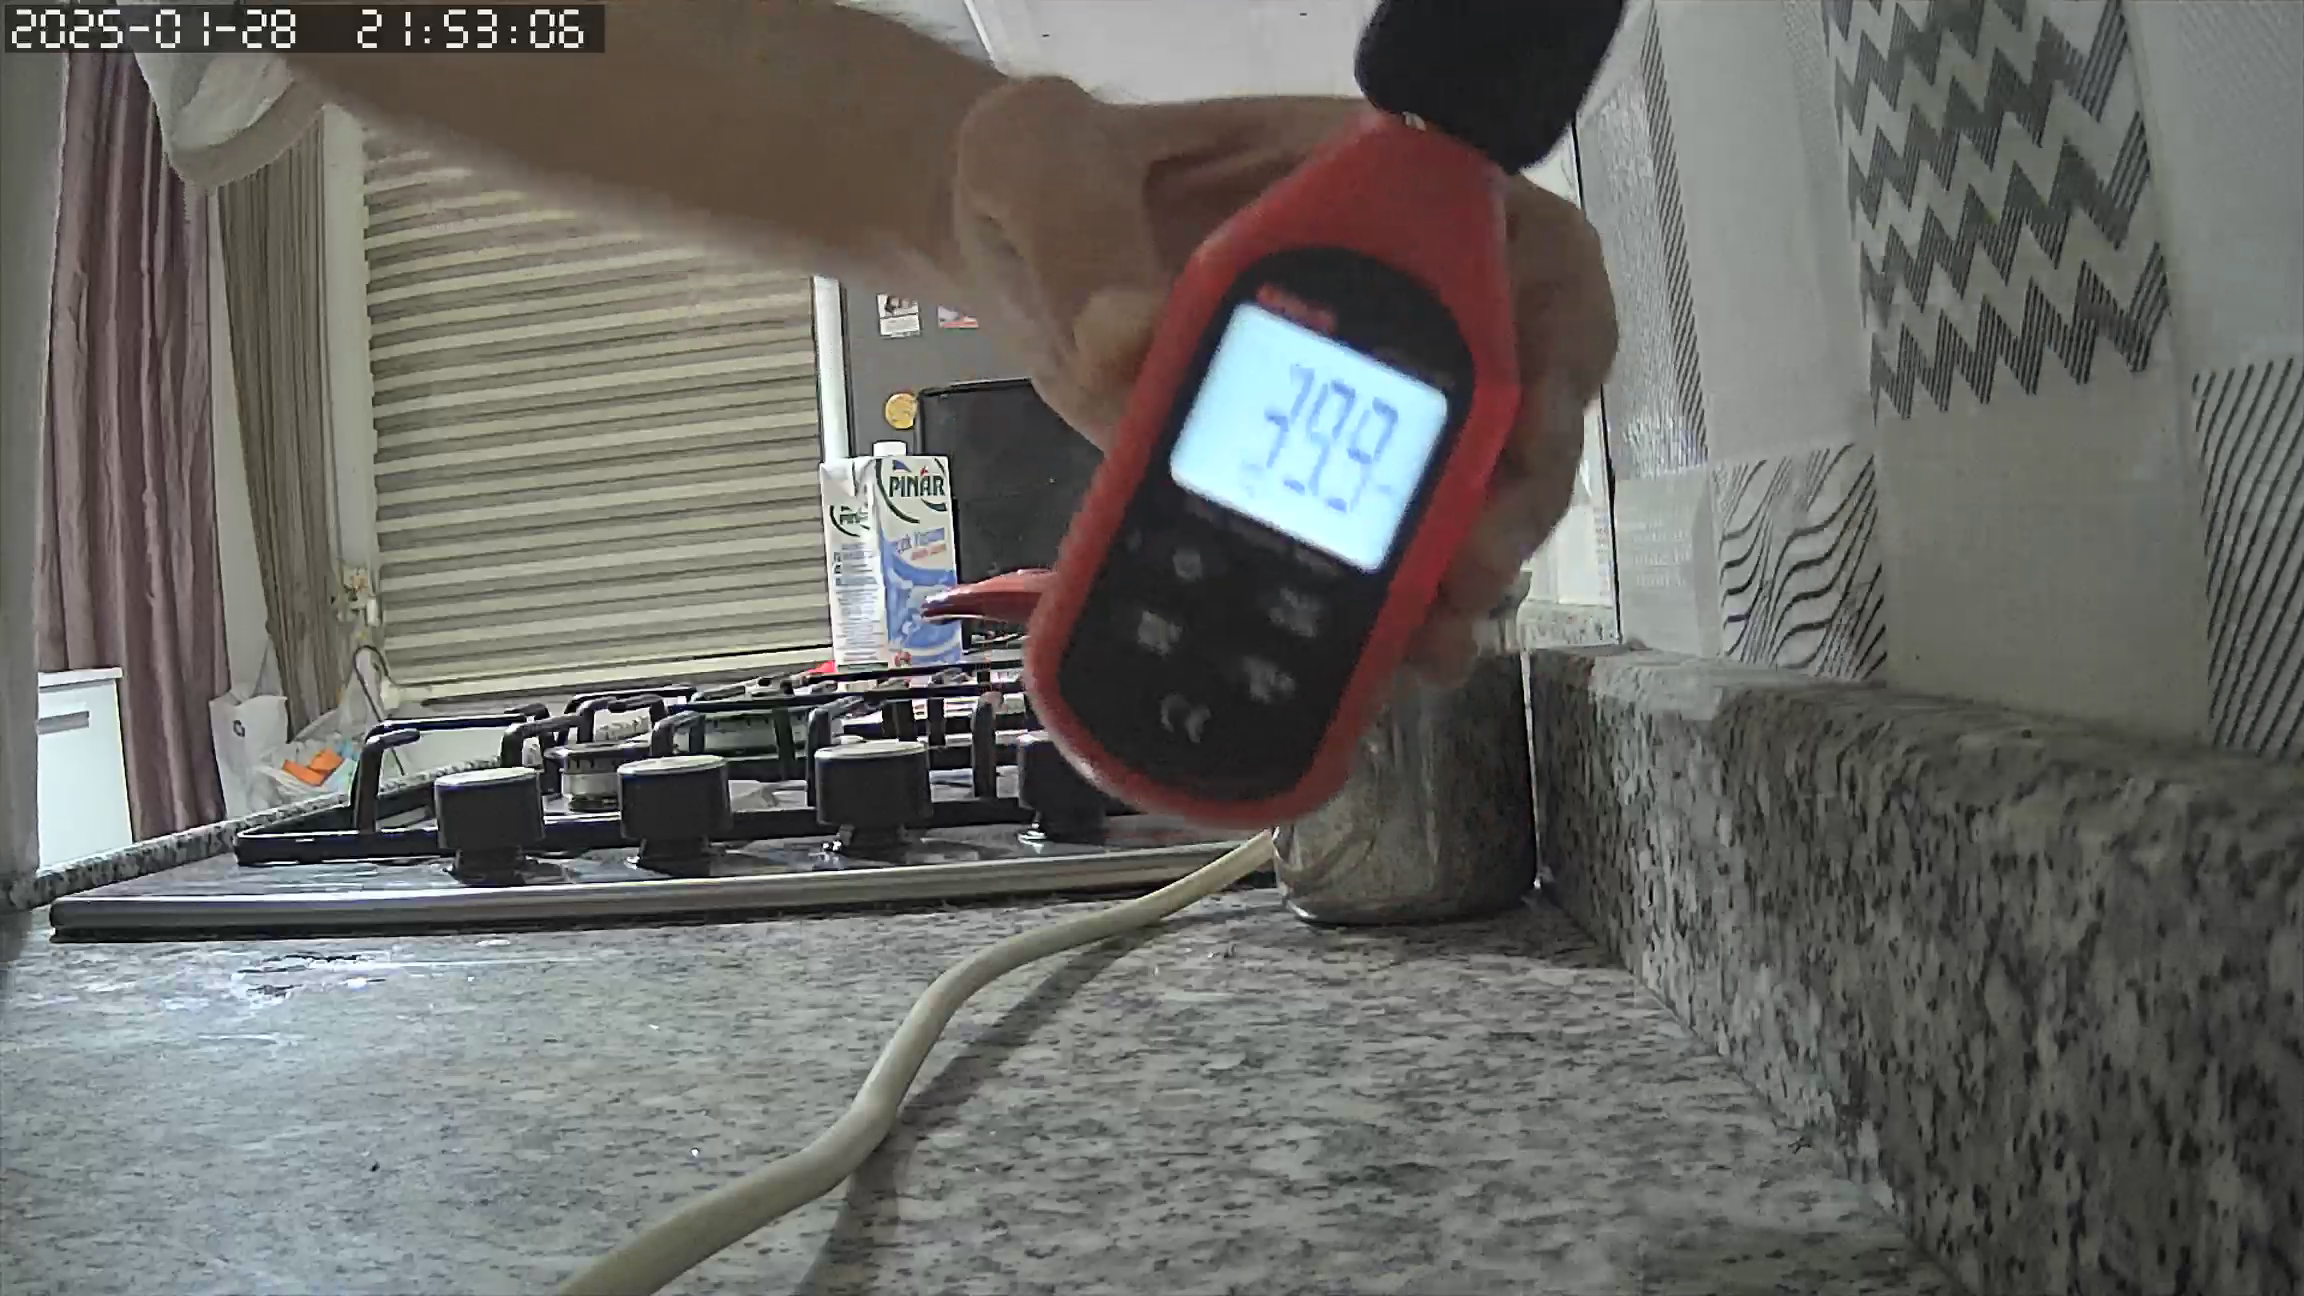screen: (1168, 301, 1453, 573)
